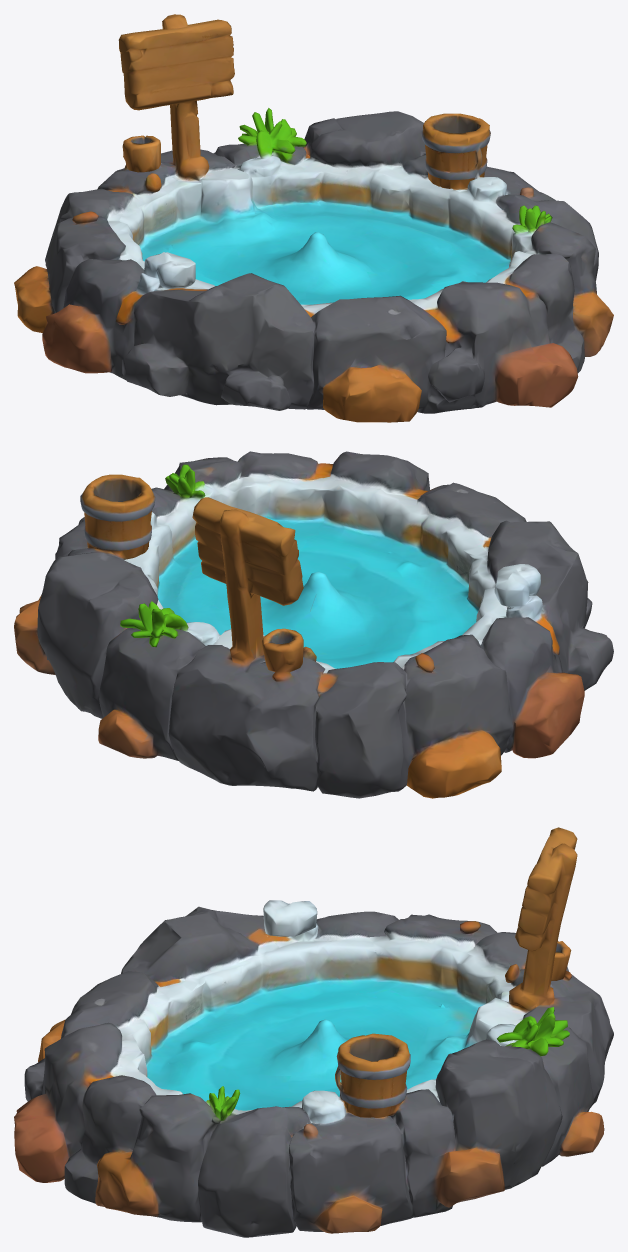
Rendered from hot_spring.glb.
3 renders of one model, top to bottom at view 1: azimuth 30°, elevation 25°; view 2: azimuth 150°, elevation 25°; view 3: azimuth 270°, elevation 25°, orthographic. The views are drawn at different scales.
Parts seen in each view (by area): view 1: tripo_node_6b3bce5e-5680-4fa7-8414-e64330400126; view 2: tripo_node_6b3bce5e-5680-4fa7-8414-e64330400126; view 3: tripo_node_6b3bce5e-5680-4fa7-8414-e64330400126.
Boxes of the visible parts, left/top/right/bottom form: tripo_node_6b3bce5e-5680-4fa7-8414-e64330400126: left=14, top=14, right=613, bottom=422; tripo_node_6b3bce5e-5680-4fa7-8414-e64330400126: left=14, top=451, right=613, bottom=798; tripo_node_6b3bce5e-5680-4fa7-8414-e64330400126: left=14, top=827, right=613, bottom=1237.
Bounding box in the file's own units: 1 × 0.4698 × 0.9952.
Materials: 1 (1 with a texture image).
